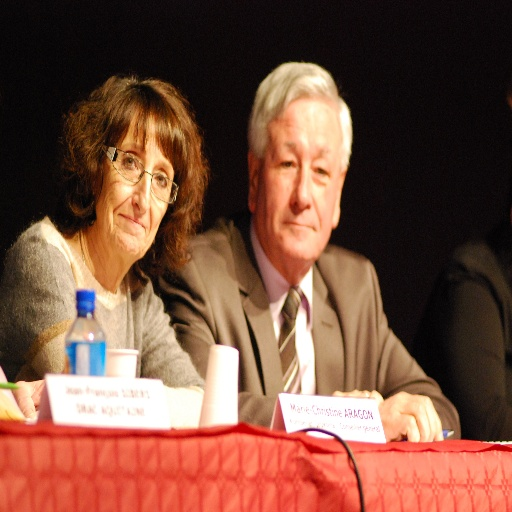hand: (384, 395, 446, 456), (330, 388, 386, 427), (11, 379, 48, 422), (0, 363, 25, 418)
